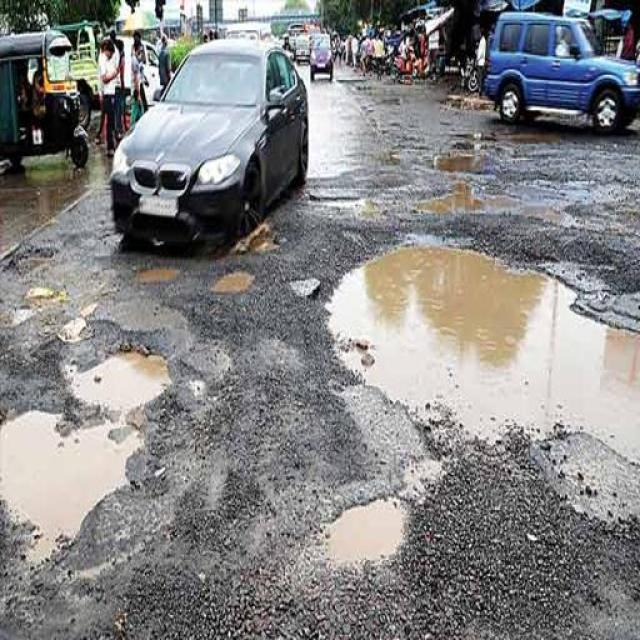puddle: (358, 248, 583, 424), (6, 427, 118, 523), (566, 321, 637, 452), (335, 500, 404, 565), (438, 142, 489, 213), (314, 78, 349, 175), (91, 357, 152, 407)
